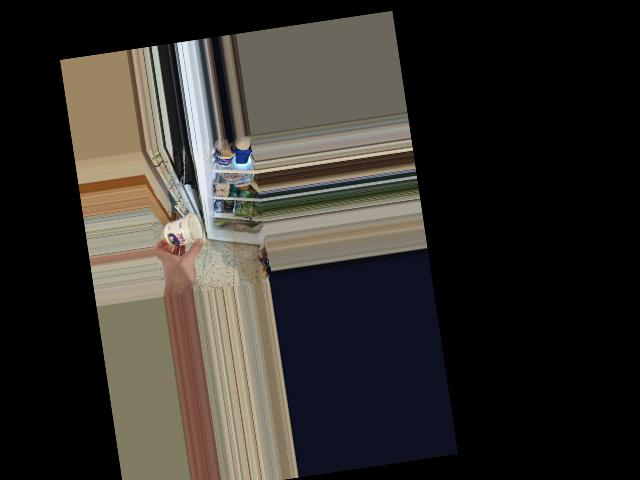cotage: (161, 210, 204, 251)
